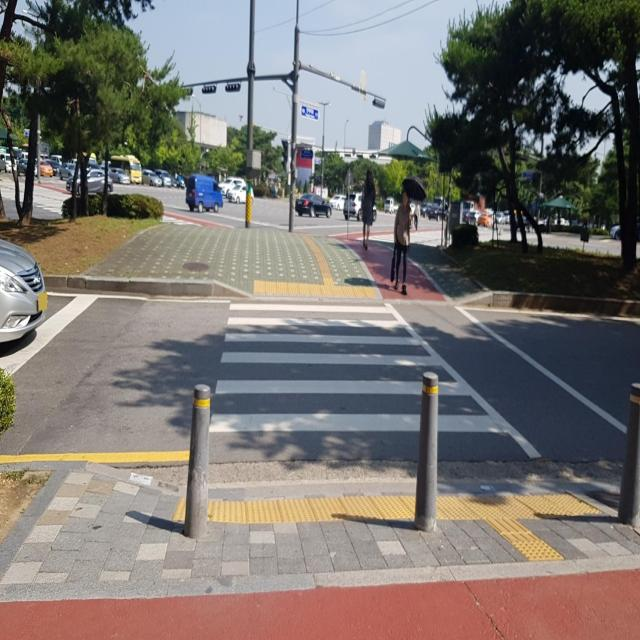횡단보도: (207, 299, 544, 462)
